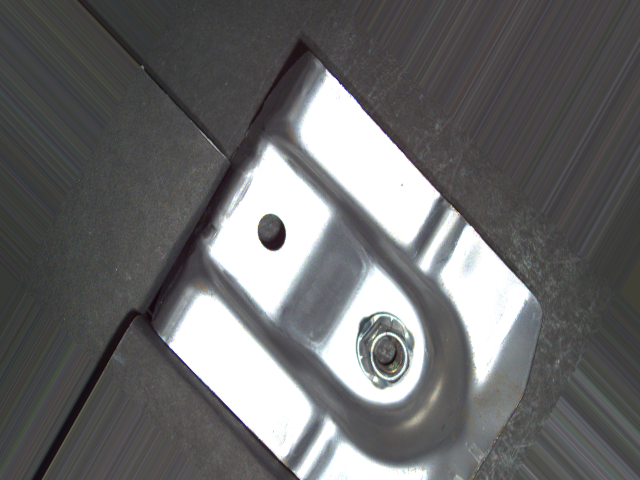good: (353, 309, 417, 393)
